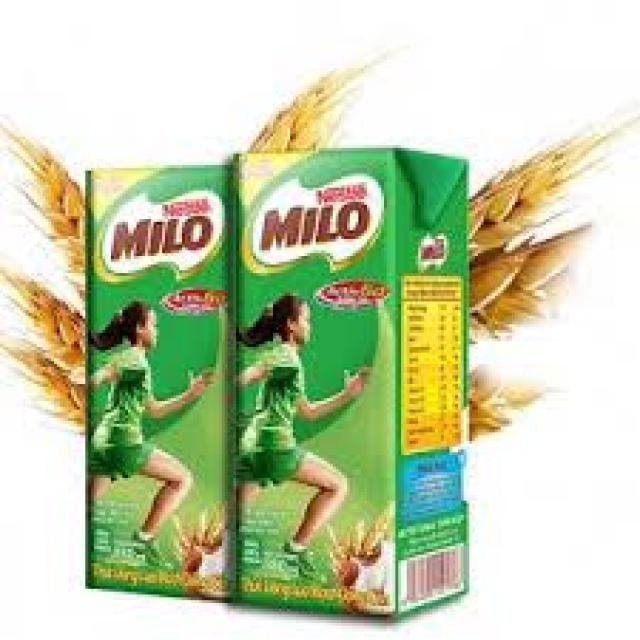sua milo: (231, 146, 473, 624), (74, 160, 239, 604)
